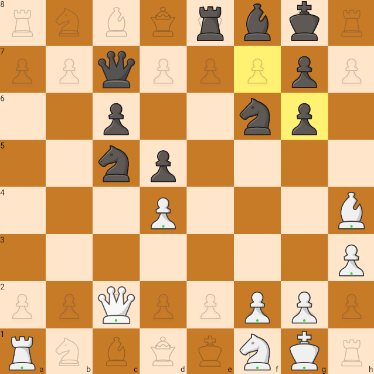bb: (234, 0, 280, 44)
bk: (282, 1, 327, 45)
bn: (236, 95, 278, 139), (95, 142, 136, 186)
bp: (283, 329, 327, 373), (94, 97, 136, 138), (284, 50, 325, 90), (284, 97, 323, 137), (146, 146, 182, 186)
bq: (95, 48, 136, 90)
br: (189, 1, 231, 43)
wb: (330, 188, 371, 233)
wn: (236, 332, 276, 373)
wp: (331, 240, 372, 278), (285, 287, 323, 327), (239, 288, 277, 327), (148, 192, 181, 233)
wq: (95, 284, 137, 327)
wr: (2, 332, 44, 372)
